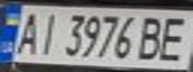3: (60, 10, 84, 57)
6: (115, 12, 142, 61)
7: (100, 11, 121, 60)
9: (78, 11, 103, 58)
A: (9, 8, 45, 56)
B: (133, 12, 172, 62)
E: (151, 12, 193, 63)
I: (33, 9, 63, 56)
